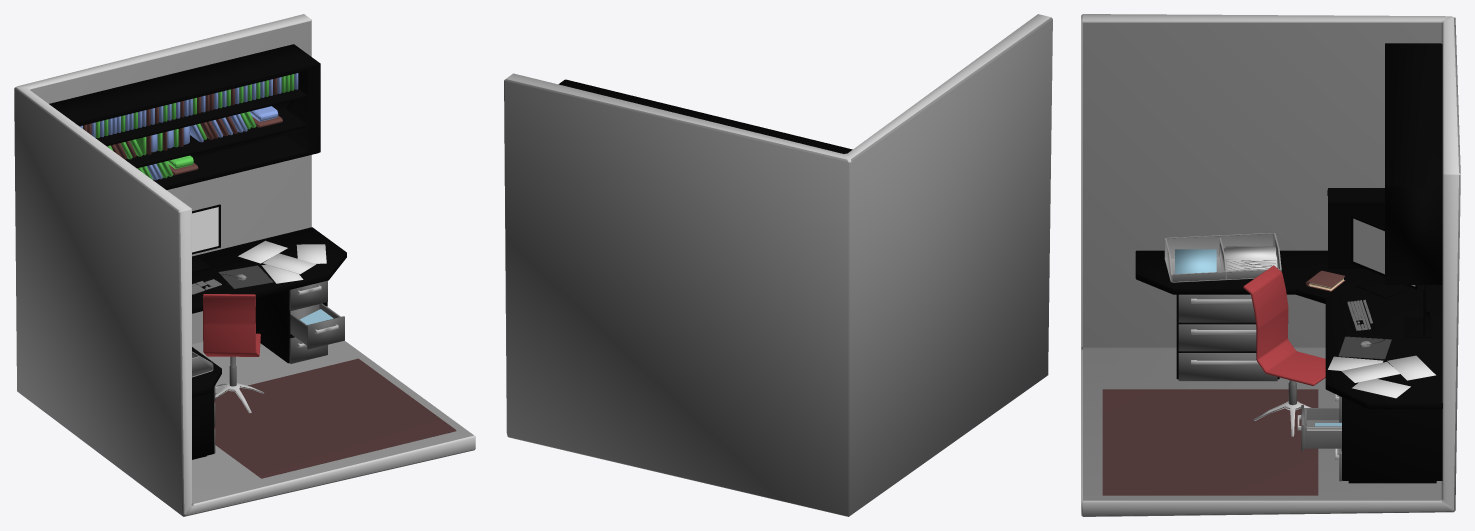
File: study_room.glb
3 renders of one model, left to right at view 1: azimuth 30°, elevation 25°; view 2: azimuth 150°, elevation 25°; view 3: azimuth 270°, elevation 25°, orthographic. The views are drawn at different scales.
Visible parts, largest first — view 1: Plane_0, Cube.004_15, Cube.007_25, table_2, Cube.013_31, Plane.013_43, Plane.002_4, Plane.007_18, Cube_3, Cube.001_5, monitor_51, Cube.016_36 (+2 smaller); view 2: Plane_0, Cube.007_25; view 3: Plane_0, Cube.004_15, Cube.007_25, table_2, Cube_3, Plane.003_6, Plane.013_43, Cube.005_20, Plane.004_9, Plane.007_18, Plane.002_4, monitor.001_52 (+10 smaller).
Boxes of the visible parts, bbox=[...] form: Plane_0: bbox=[14, 14, 475, 516]; Cube.004_15: bbox=[214, 358, 456, 478]; Cube.007_25: bbox=[49, 44, 320, 189]; table_2: bbox=[192, 227, 346, 397]; Cube.013_31: bbox=[80, 73, 298, 138]; Plane.013_43: bbox=[203, 294, 260, 356]; Plane.002_4: bbox=[289, 280, 344, 363]; Plane.007_18: bbox=[238, 240, 326, 283]; Cube_3: bbox=[255, 290, 327, 363]; Cube.001_5: bbox=[192, 387, 214, 459]; monitor_51: bbox=[192, 204, 220, 254]; Cube.016_36: bbox=[190, 111, 256, 142]; Plane_0: bbox=[504, 14, 1052, 516]; Cube.007_25: bbox=[558, 79, 852, 153]; Plane_0: bbox=[1081, 14, 1460, 516]; Cube.004_15: bbox=[1102, 389, 1318, 495]; Cube.007_25: bbox=[1385, 43, 1442, 284]; table_2: bbox=[1135, 250, 1442, 409]; Cube_3: bbox=[1341, 397, 1442, 483]; Plane.003_6: bbox=[1178, 294, 1277, 381]; Plane.013_43: bbox=[1243, 265, 1325, 385]; Cube.005_20: bbox=[1327, 188, 1384, 268]; Plane.004_9: bbox=[1164, 233, 1281, 282]; Plane.007_18: bbox=[1327, 355, 1435, 398]; Plane.002_4: bbox=[1297, 394, 1341, 481]; monitor.001_52: bbox=[1351, 215, 1417, 289].
Bounding box in the file's own units: 2.92 × 2.92 × 2.92.
